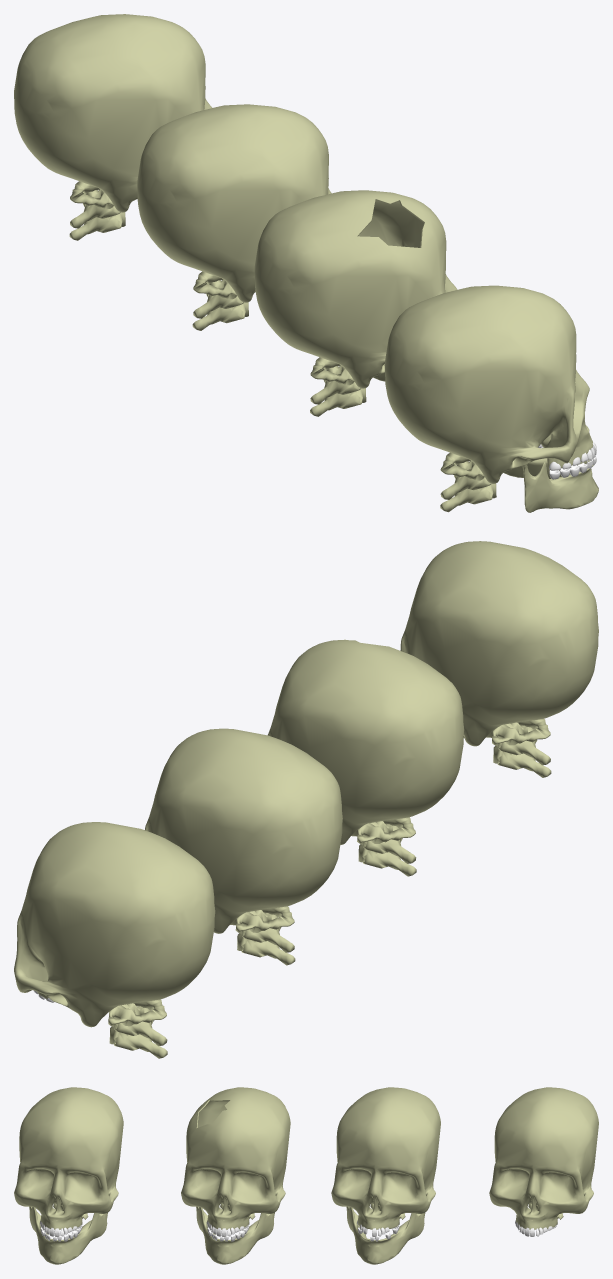
File: Cranes.fbx
3 renders of one model, top to bottom at view 1: azimuth 30°, elevation 25°; view 2: azimuth 150°, elevation 25°; view 3: azimuth 270°, elevation 25°, orthographic. The views are drawn at different scales.
Visible parts, largest first — view 1: Jonathan, Mathis, Zakary, Olivier, Lower jaw 002, c004, c006, c005, c3, axis001, axis, axis003 (+5 smaller); view 2: Zakary, Jonathan, Olivier, Mathis, atlas003, atlas, atlas001, atlas002, c005, c3, c004, c006 (+4 smaller); view 3: Olivier, Zakary, Jonathan, Mathis, Lower jaw, Lower jaw 001, Lower jaw 002.
Part boxes in pixels (box(x1,y1,x2,y2)): Jonathan: box(384, 285, 592, 483); Mathis: box(254, 190, 457, 388); Zakary: box(14, 14, 212, 212); Olivier: box(137, 104, 331, 302); Lower jaw 002: box(503, 458, 598, 512); c004: box(69, 212, 125, 240); c006: box(440, 483, 496, 512); c005: box(310, 388, 366, 416); c3: box(192, 302, 248, 330); axis001: box(70, 189, 120, 228); axis: box(193, 279, 243, 318); axis003: box(440, 461, 491, 499); Zakary: box(14, 822, 215, 1027); Jonathan: box(400, 541, 598, 746); Olivier: box(145, 728, 342, 933); Mathis: box(268, 639, 464, 844); atlas003: box(492, 718, 550, 745); atlas: box(235, 906, 294, 932); atlas001: box(108, 999, 166, 1026); atlas002: box(357, 817, 415, 843); c005: box(358, 844, 416, 876); c3: box(237, 933, 295, 965); c004: box(109, 1026, 167, 1058); c006: box(493, 746, 551, 777); Olivier: box(331, 1087, 440, 1229); Zakary: box(489, 1087, 598, 1229); Jonathan: box(14, 1087, 123, 1229); Mathis: box(181, 1087, 290, 1229); Lower jaw: box(346, 1206, 425, 1264); Lower jaw 001: box(196, 1206, 274, 1264); Lower jaw 002: box(29, 1206, 107, 1264).
Size of the model in its own units: 226 by 250 by 949.
